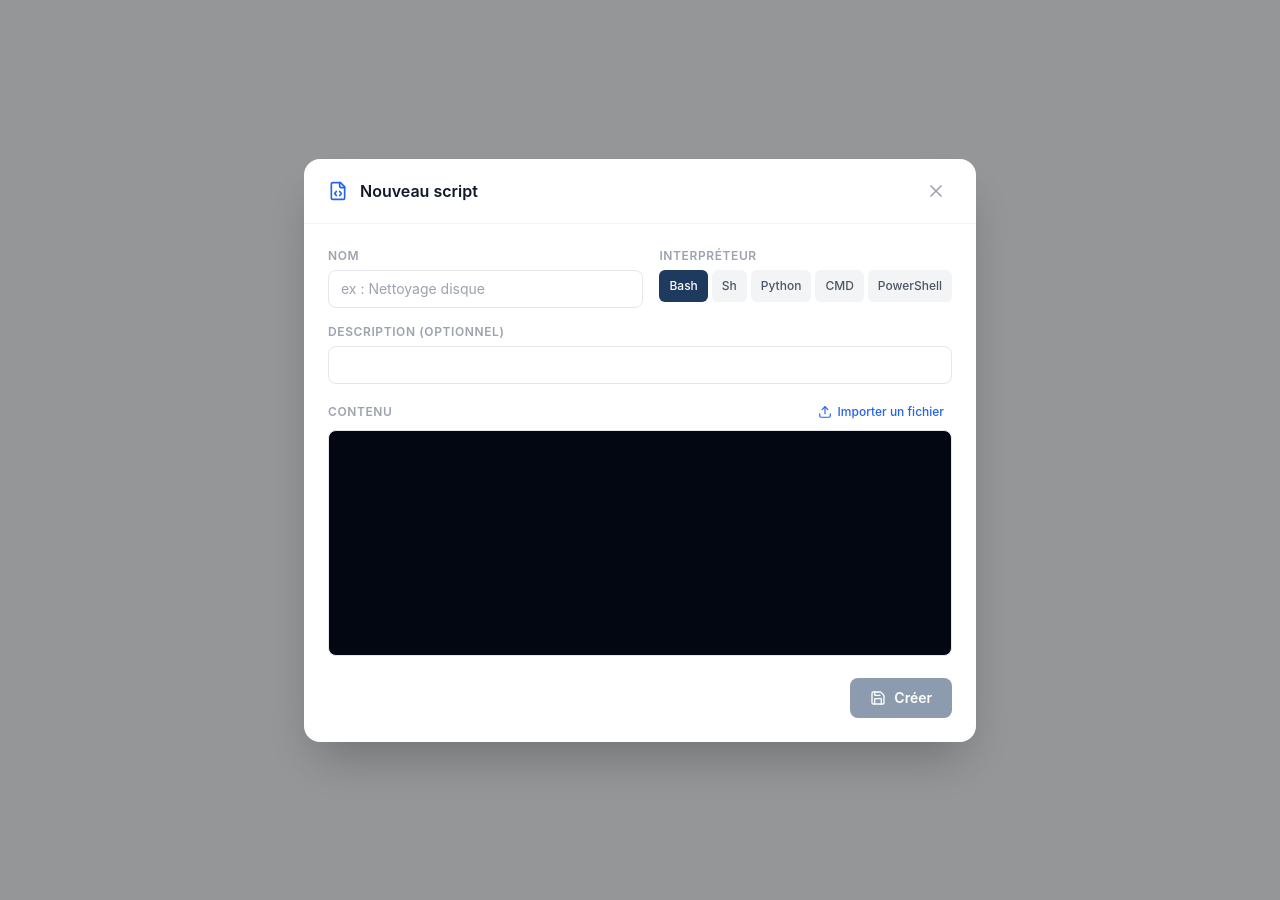
Scenario: ScriptFormModal — création › affiche un état de chargement pendant la création
Step 1. Type "Mon script" into the field with placeholder "ex : Nettoyage disque" → (486, 288), box [328,270,643,308]
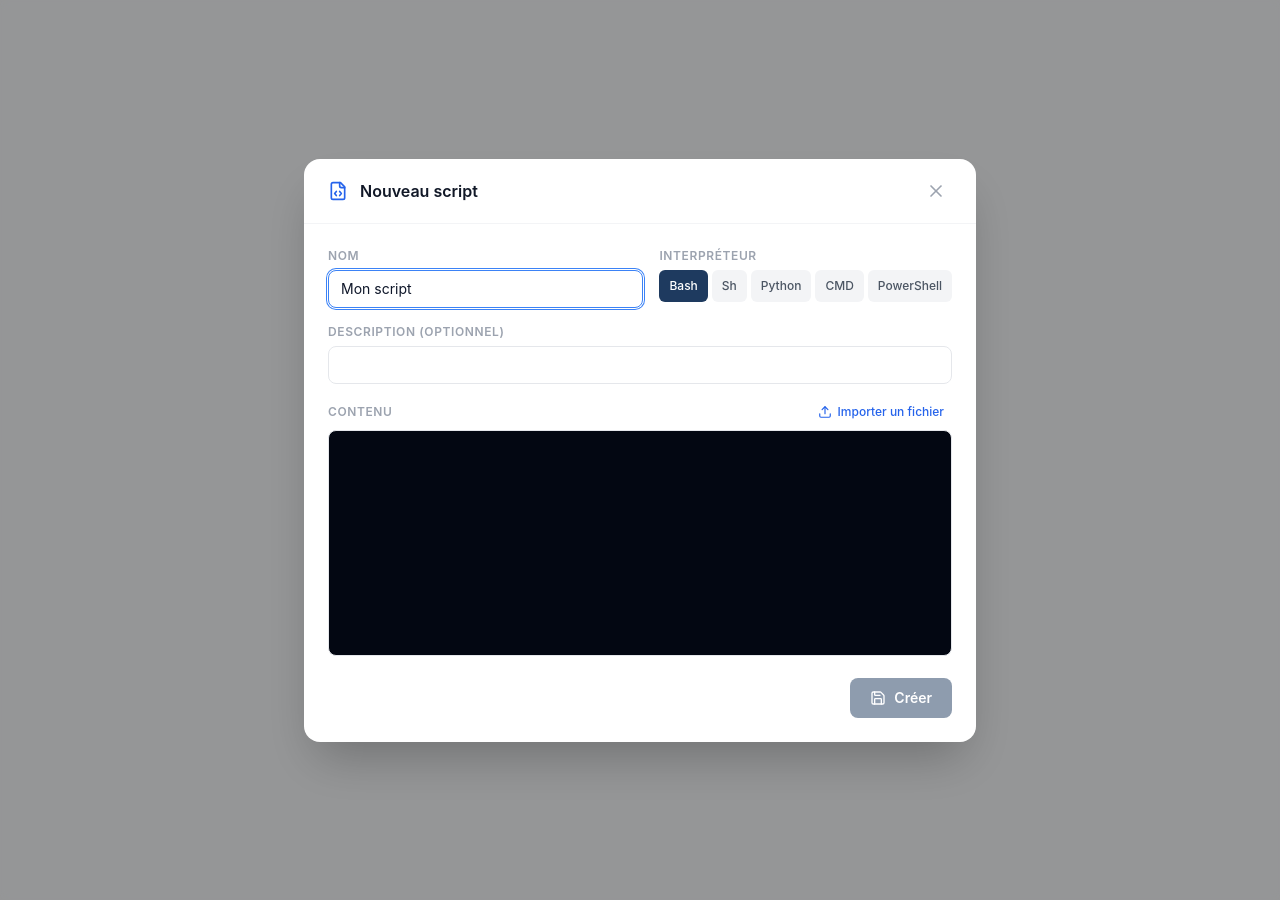
Step 2. Type "echo hi" into the text box → (640, 542), box [328,430,952,656]
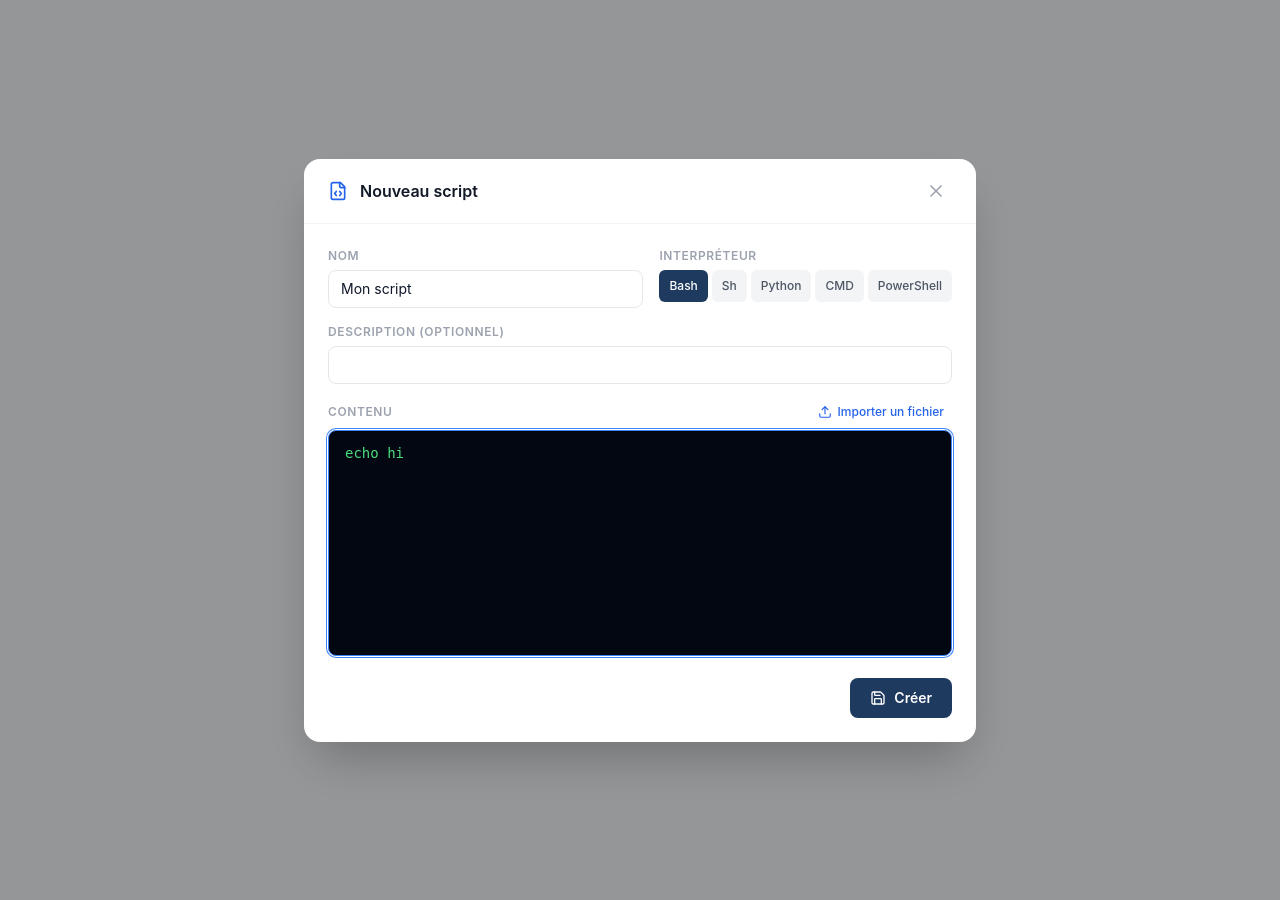
Step 3. Click the button "Créer" → (901, 698), box [850,678,952,718]
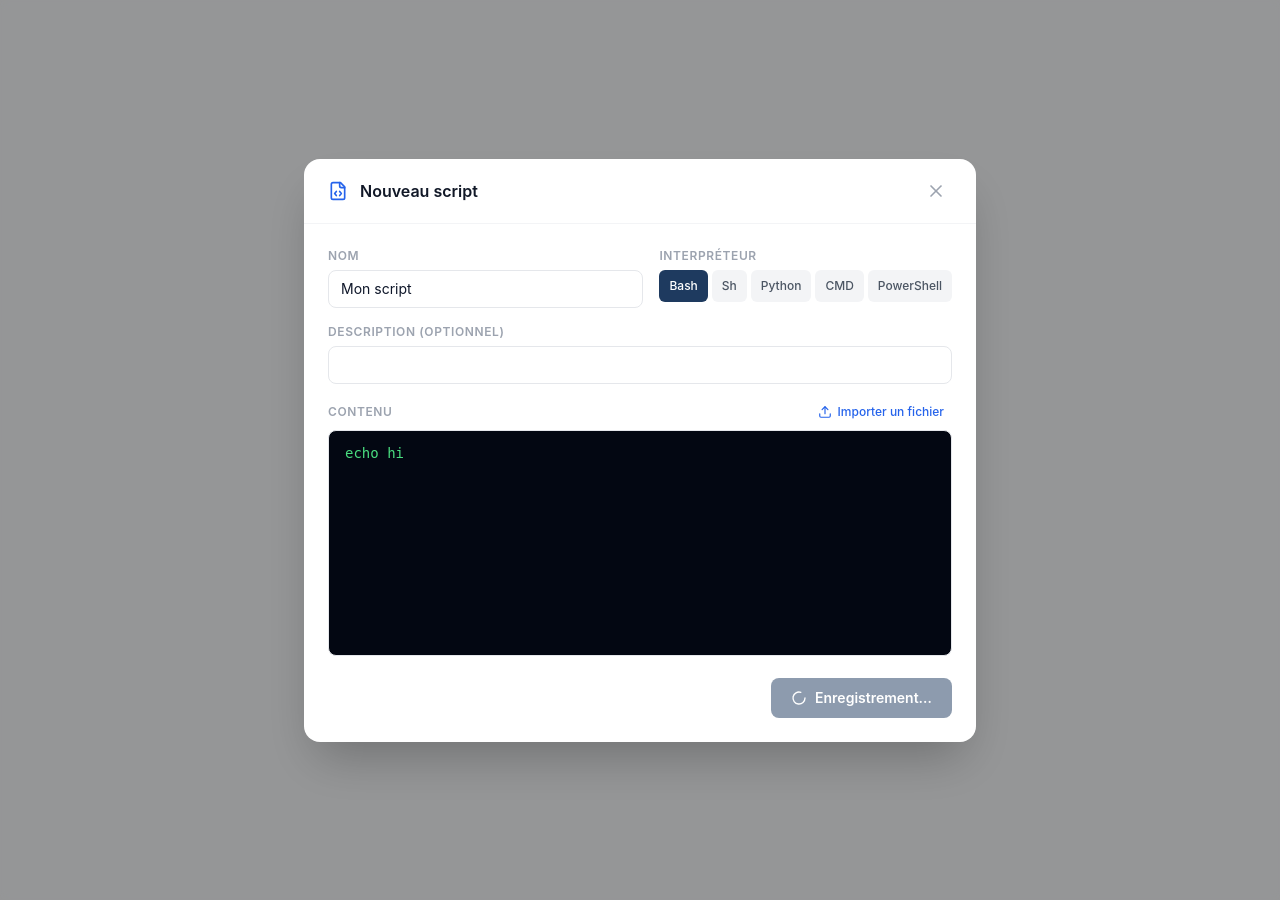
Expected: the button "Enregistrement…" is disabled, [771,678,952,718]
